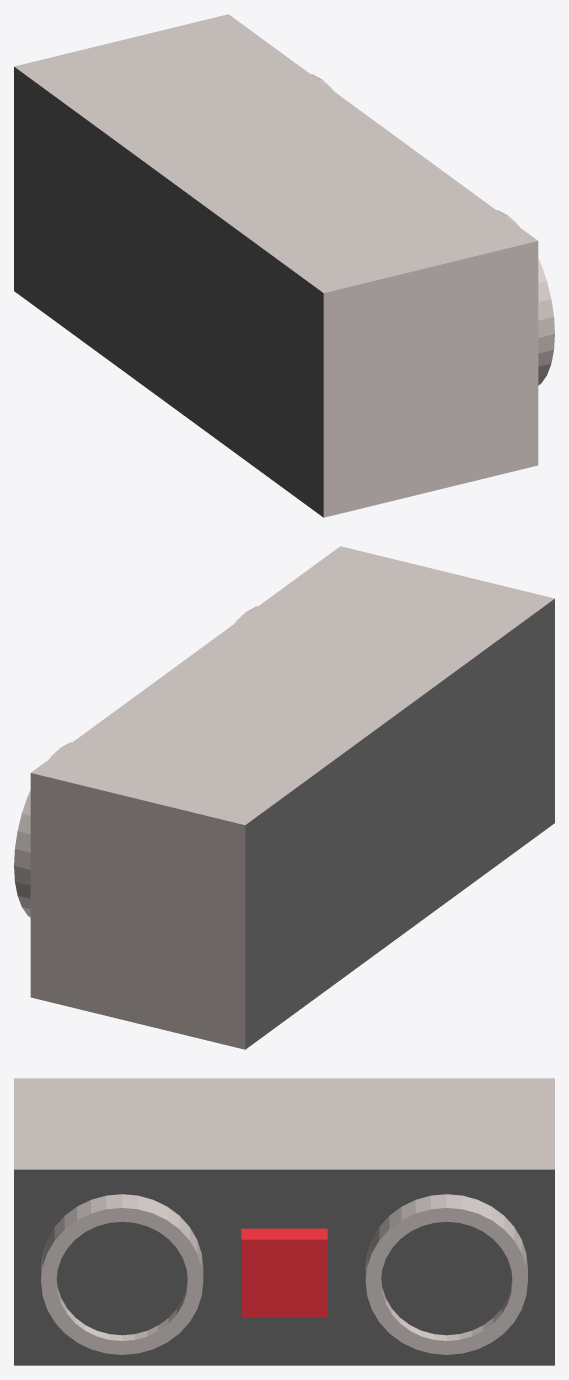
Rendered from Boombox v3.fbx.
The picture shows the model from 3 angles, top to bottom: view 1: azimuth 30°, elevation 25°; view 2: azimuth 150°, elevation 25°; view 3: azimuth 270°, elevation 25°; orthographic projection. The views are drawn at different scales.
Parts seen in each view (by area): view 1: Cube; view 2: Cube; view 3: Cube.
Part boxes in pixels (x1,y1,x2,y2): Cube: (14,14,554,517); Cube: (14,546,554,1049); Cube: (14,1078,554,1365).
Size of the model in its own units: 230 by 200 by 500.
